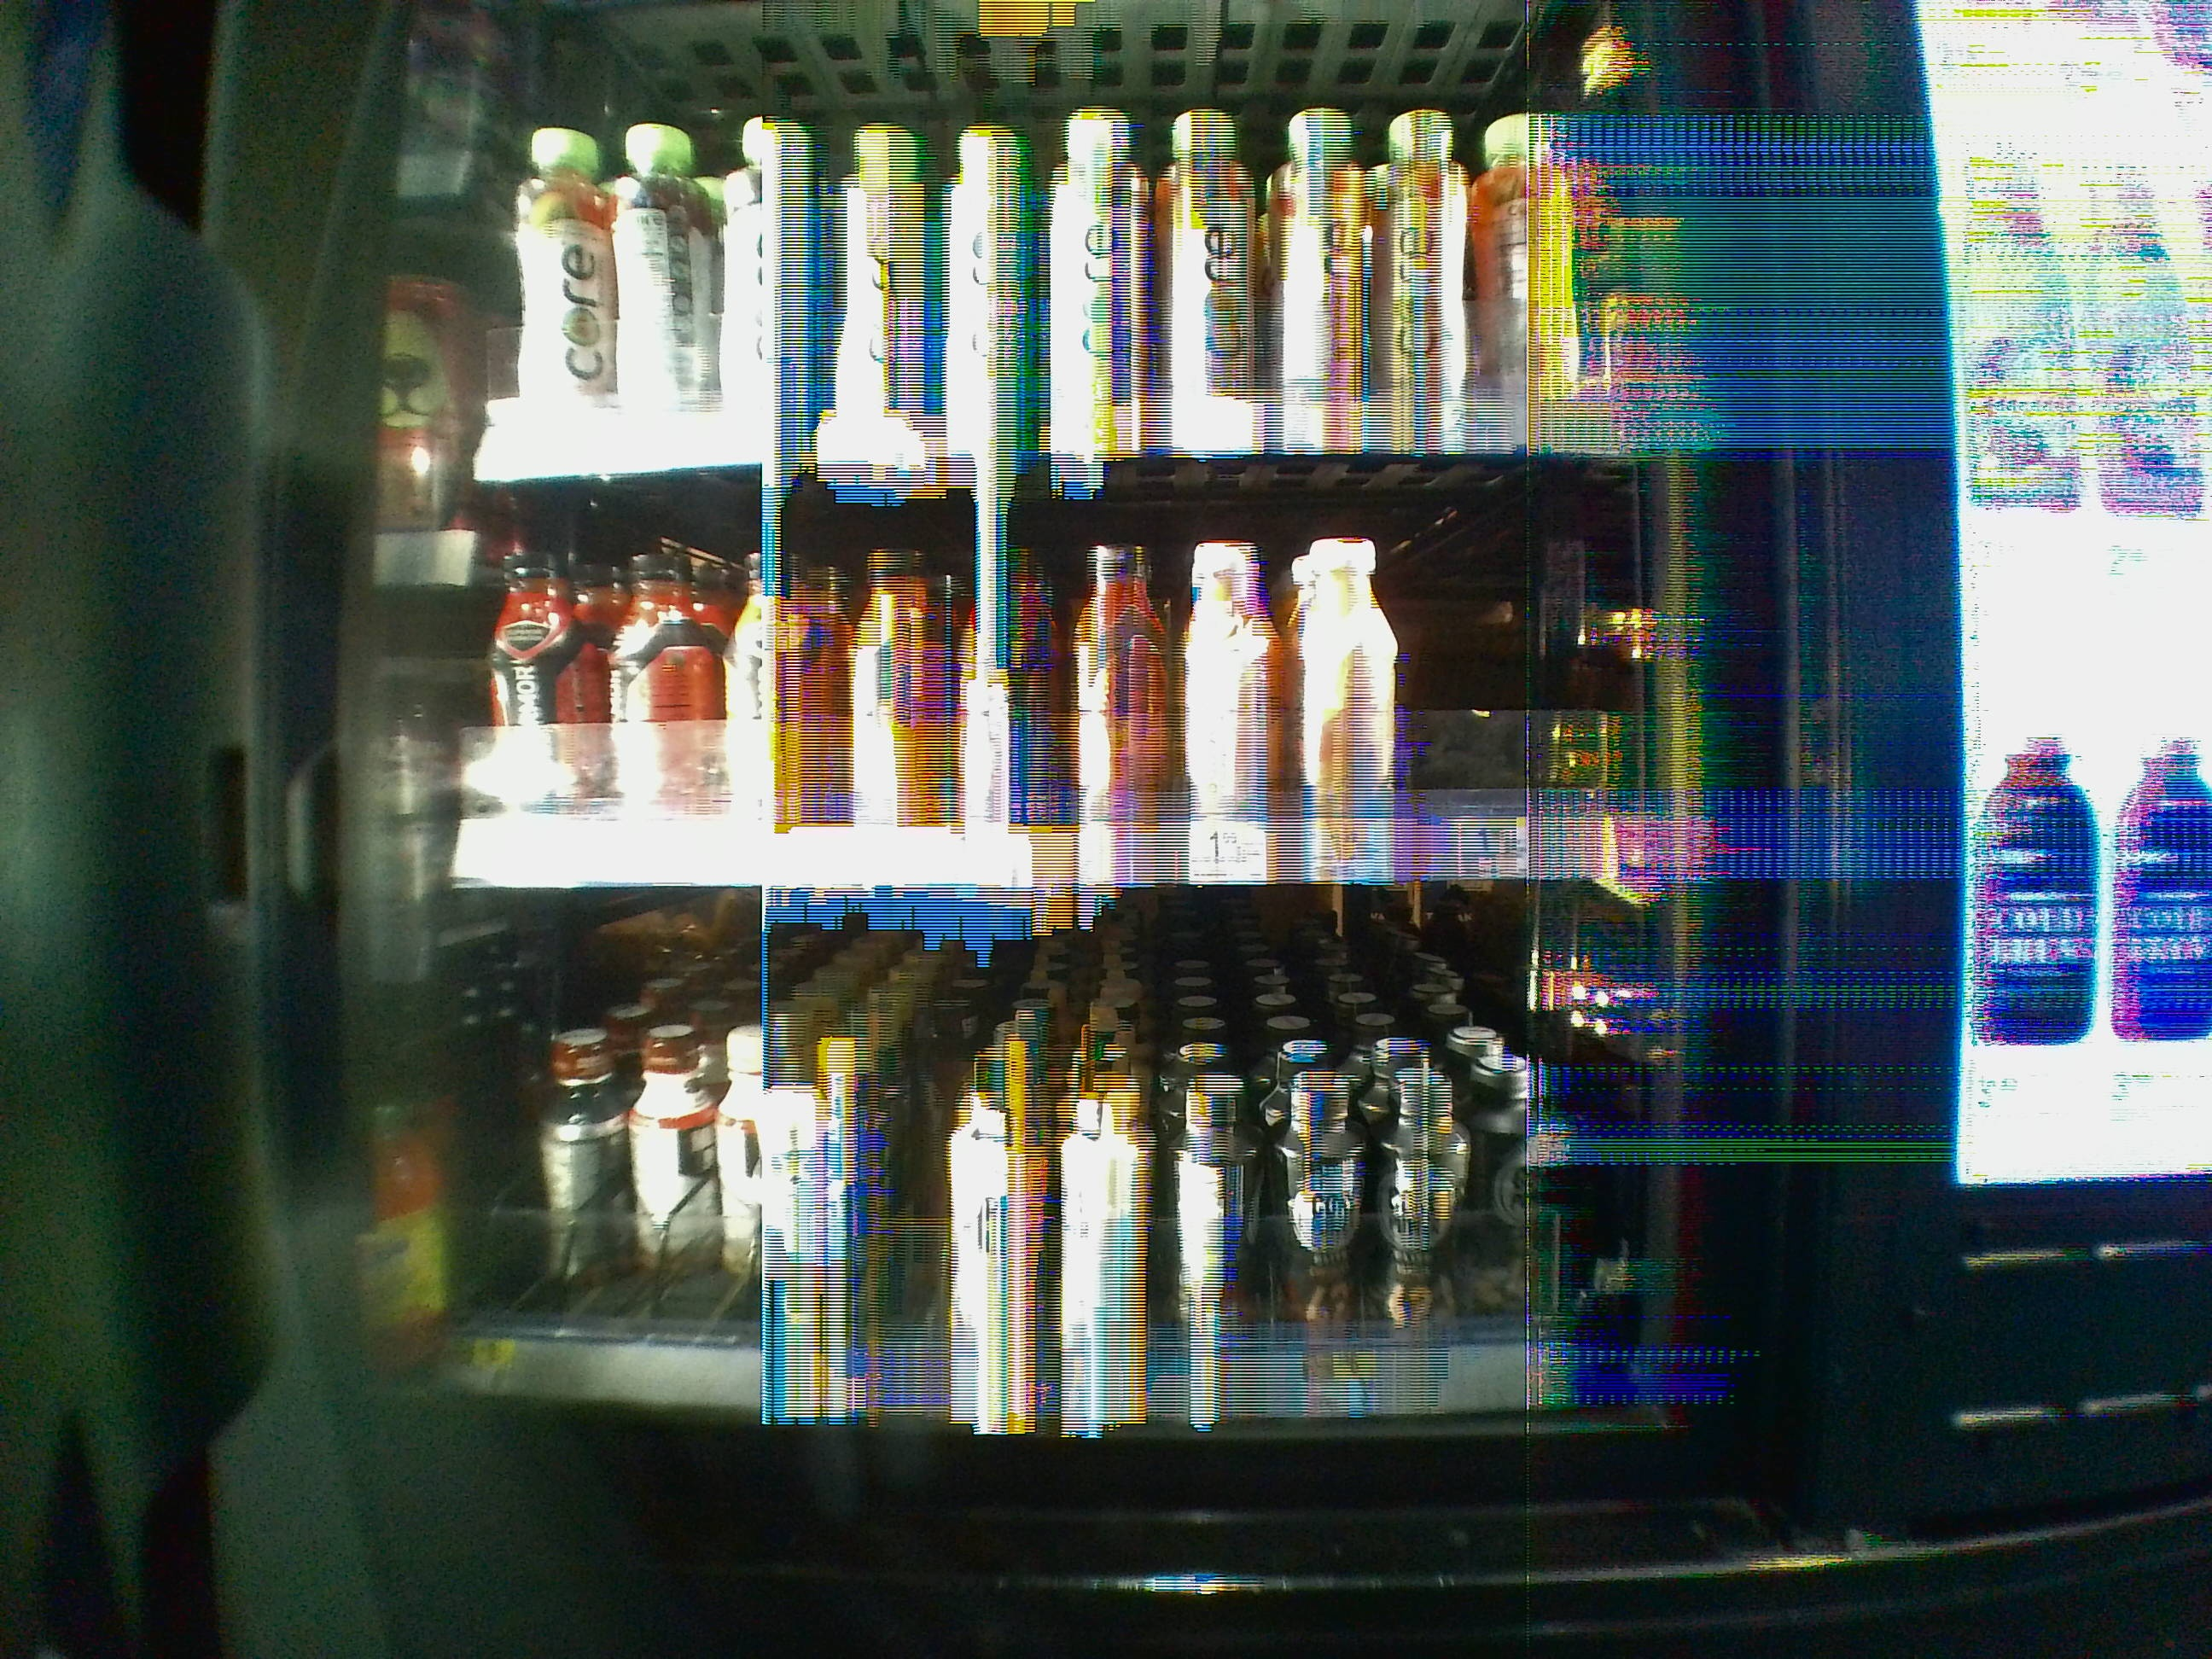shelf: (326, 894, 1709, 1441), (374, 26, 1745, 462), (336, 471, 1681, 889)
